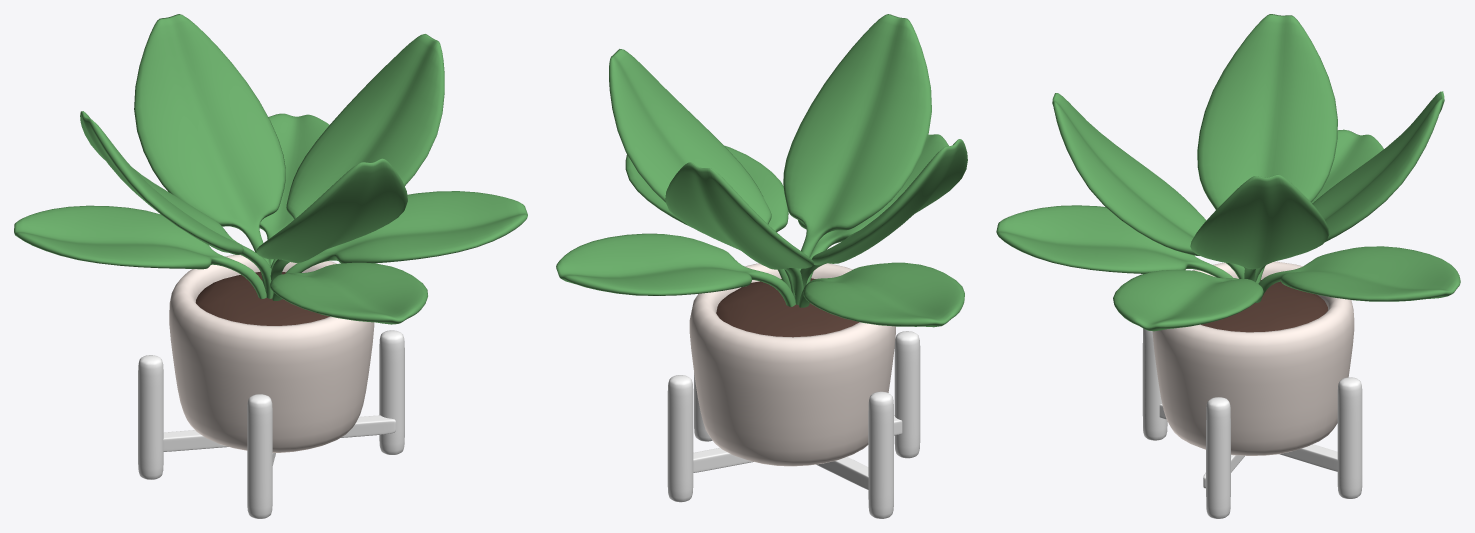
The model's file is plant1.glb.
3 views of the same model, side by side, from view 1: azimuth 30°, elevation 25°; view 2: azimuth 150°, elevation 25°; view 3: azimuth 270°, elevation 25° (orthographic). The views are drawn at different scales.
Visible parts, largest first — view 1: plant1, Plane.111, Plane.112, Plane.126, Cylinder.005, Plane.124, Plane.113, Plane.123, Plane.121, long plant.006, Plane.125, Cube.016; view 2: plant1, Plane.113, Plane.112, Cylinder.005, Plane.125, Plane.126, Plane.111, Plane.121, long plant.006, Plane.124, Plane.123, Cube.018 (+1 smaller); view 3: plant1, Plane.121, Plane.113, Plane.123, Plane.112, Plane.125, Cylinder.005, Plane.124, Plane.111, long plant.006, Plane.126, Cube.018.
Boxes of the visible parts, x1,y1,x2,y2 form: plant1: (169, 254, 374, 452); Plane.111: (134, 14, 285, 293); Plane.112: (270, 34, 444, 269); Plane.126: (14, 205, 266, 298); Cylinder.005: (138, 330, 404, 518); Plane.124: (285, 191, 527, 273); Plane.113: (256, 158, 407, 294); Plane.123: (269, 262, 427, 324); Plane.121: (80, 111, 272, 298); long plant.006: (195, 271, 329, 325); Plane.125: (259, 113, 329, 265); Cube.016: (163, 415, 395, 451); plant1: (689, 263, 895, 466); Plane.113: (783, 14, 931, 270); Plane.112: (609, 49, 795, 301); Cylinder.005: (667, 331, 920, 518); Plane.125: (556, 233, 795, 306); Plane.126: (799, 262, 964, 327); Plane.111: (665, 162, 813, 304); Plane.121: (800, 139, 967, 288); long plant.006: (716, 278, 859, 337); Plane.124: (625, 145, 791, 289); Plane.123: (798, 134, 948, 284); Cube.018: (693, 415, 902, 472); plant1: (1152, 261, 1354, 455); Plane.121: (1197, 14, 1337, 267); Plane.113: (1052, 93, 1244, 278); Plane.123: (996, 205, 1232, 278); Plane.112: (1190, 174, 1329, 281); Plane.125: (1255, 246, 1460, 302); Cylinder.005: (1142, 328, 1362, 518); Plane.124: (1113, 270, 1263, 331); Plane.111: (1255, 91, 1444, 281); long plant.006: (1201, 280, 1327, 332); Plane.126: (1256, 129, 1383, 283); Cube.018: (1159, 404, 1337, 471).
Size of the model in its own units: 0.7389 by 0.6553 by 0.7414.
